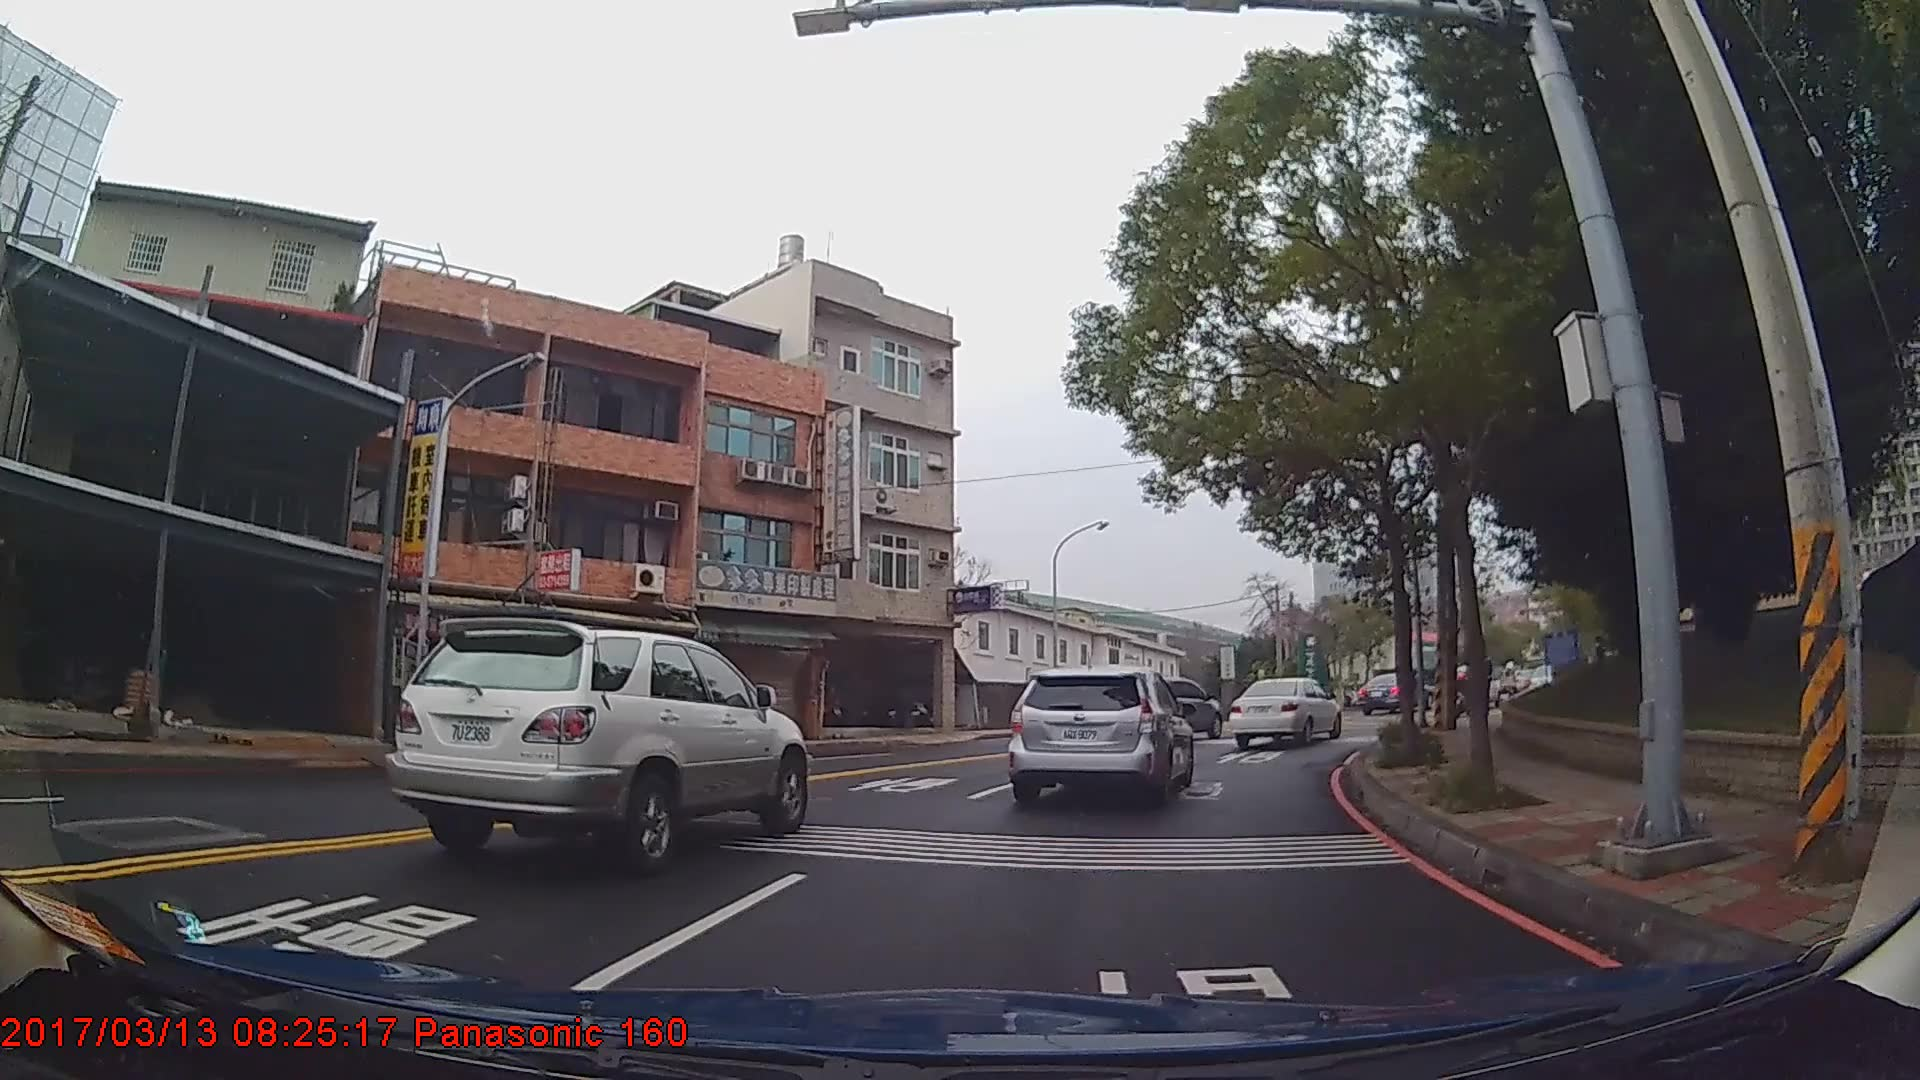vehicle: (390, 616, 810, 873), (1001, 665, 1191, 812), (1224, 675, 1340, 746), (1129, 676, 1221, 738), (1356, 673, 1424, 716)
